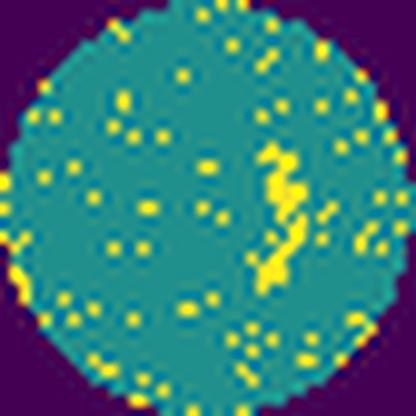Loc: (243, 142, 311, 299)
